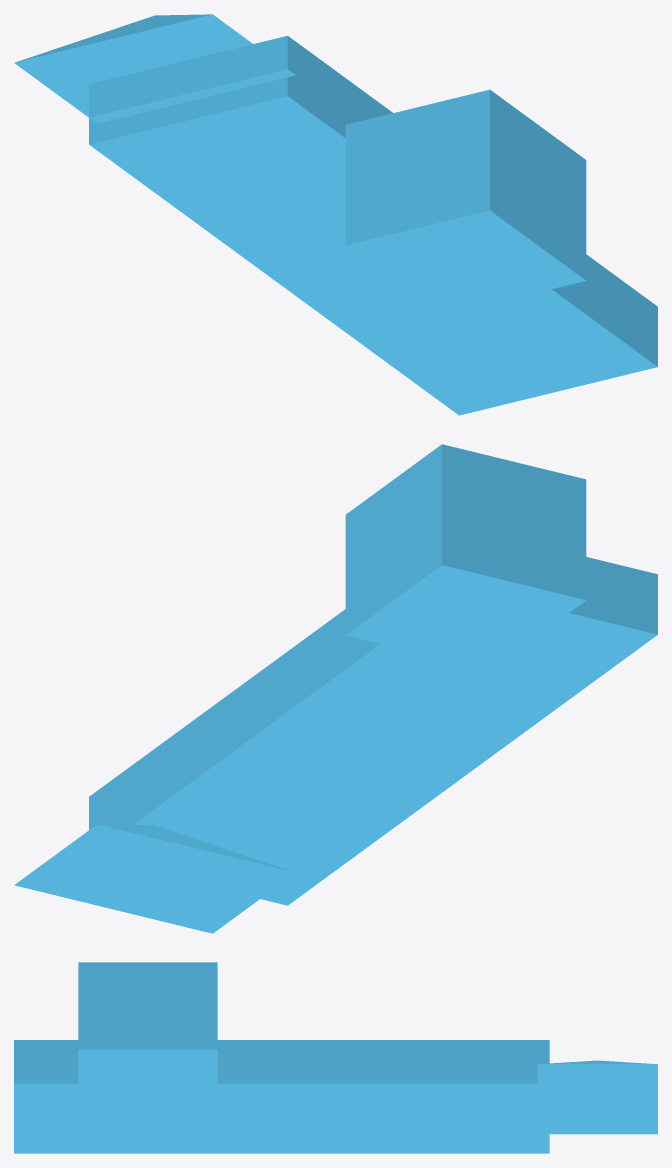
Rendered from unit-naval.gltf.
The picture shows the model from 3 angles, top to bottom: view 1: azimuth 30°, elevation 25°; view 2: azimuth 150°, elevation 25°; view 3: azimuth 270°, elevation 25°; orthographic projection. The views are drawn at different scales.
Parts seen in each view (by area): view 1: unit-naval; view 2: unit-naval; view 3: unit-naval.
Part boxes in pixels (<box>): unit-naval: <box>14,14,657,415</box>; unit-naval: <box>14,444,657,933</box>; unit-naval: <box>14,962,657,1153</box>.
Bounding box in the file's own units: 0.62 × 0.54 × 2.4.
